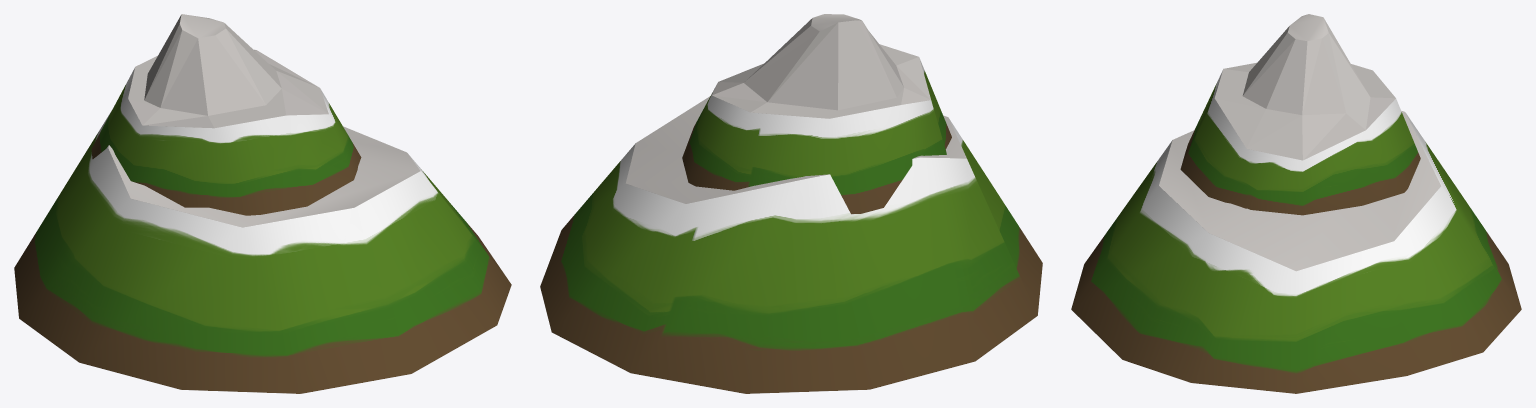
Rendered from Mountain001.fbx.
3 renders of one model, left to right at view 1: azimuth 30°, elevation 25°; view 2: azimuth 150°, elevation 25°; view 3: azimuth 270°, elevation 25°, orthographic. The views are drawn at different scales.
Visible parts, largest first — view 1: Cylinder064; view 2: Cylinder064; view 3: Cylinder064.
Part boxes in pixels (x1=…): Cylinder064: x1=14, y1=14, x2=511, y2=393; Cylinder064: x1=540, y1=14, x2=1042, y2=393; Cylinder064: x1=1071, y1=14, x2=1521, y2=393.
Size of the model in its own units: 142 by 88.36 by 143.
1 material, 1 textured.
